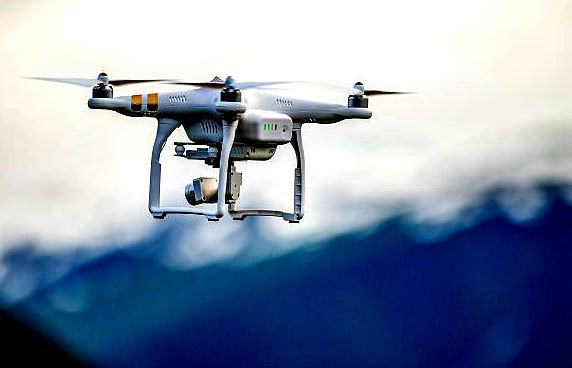Drone: (20, 63, 418, 224)
